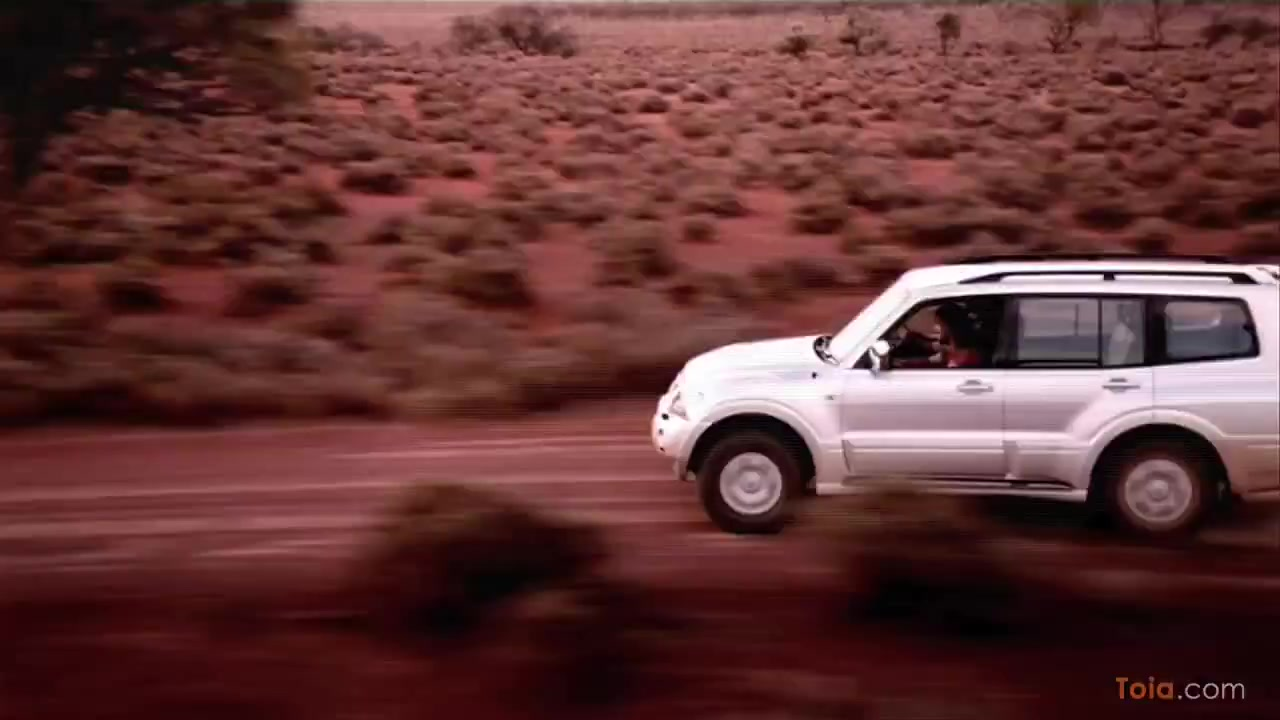car: (650, 250, 1280, 537)
